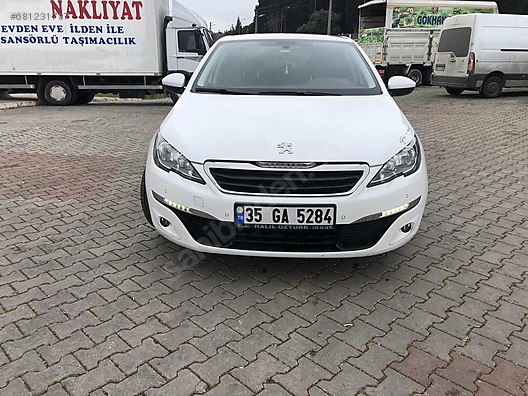peugeot: (136, 30, 425, 263)
